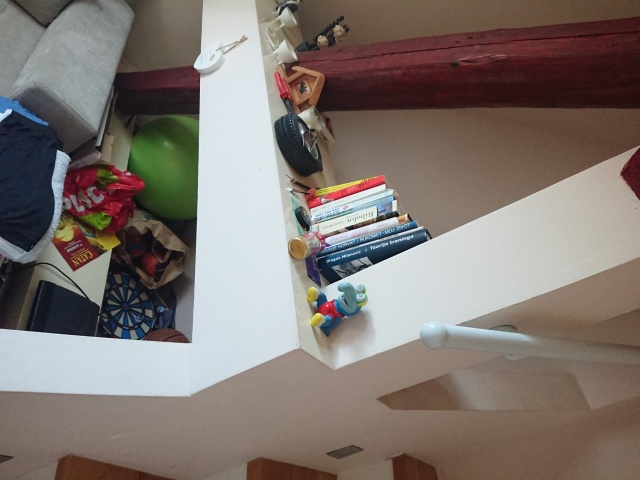Kotanyi Curry Spices Mix 70g: (287, 229, 328, 262)
